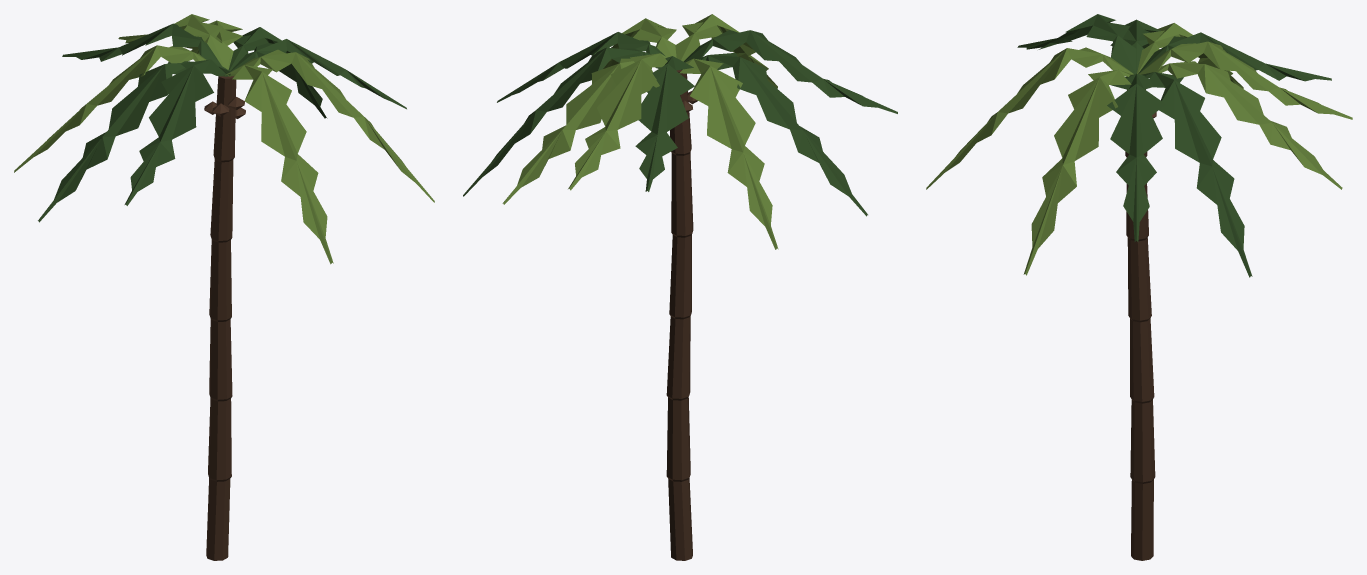
File: coconut_palm.glb
3 views of the same model, side by side, from view 1: azimuth 30°, elevation 25°; view 2: azimuth 150°, elevation 25°; view 3: azimuth 270°, elevation 25° (orthographic).
Parts seen in each view (by area): view 1: coconut_palm; view 2: coconut_palm; view 3: coconut_palm.
Part boxes in pixels (<box>): coconut_palm: <box>14,14,434,560</box>; coconut_palm: <box>463,14,897,560</box>; coconut_palm: <box>926,14,1352,560</box>.
Size of the model in its own units: 6 by 8.07 by 6.
